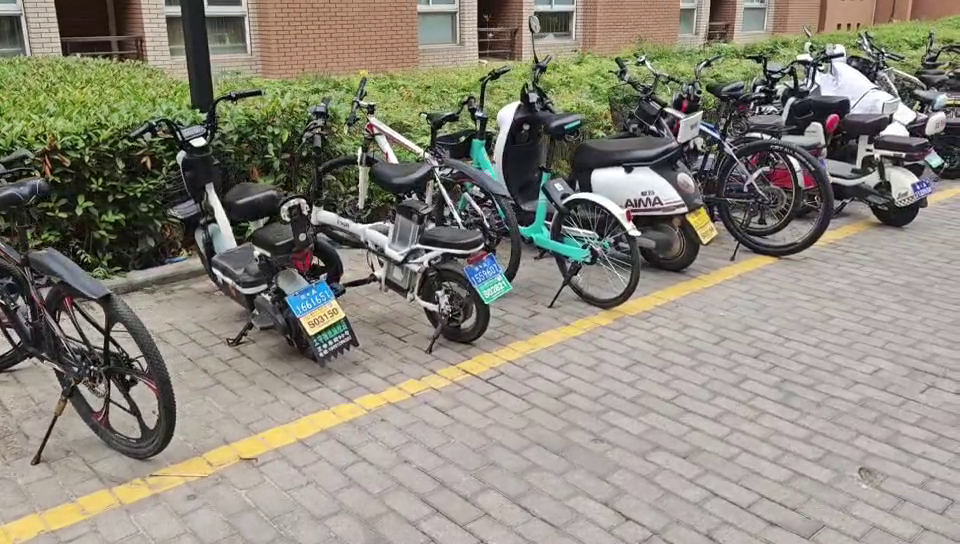others: (118, 99, 348, 361), (296, 88, 499, 331), (616, 56, 829, 258), (720, 45, 924, 222)
shared_bike_qingcong: (422, 64, 629, 312)
